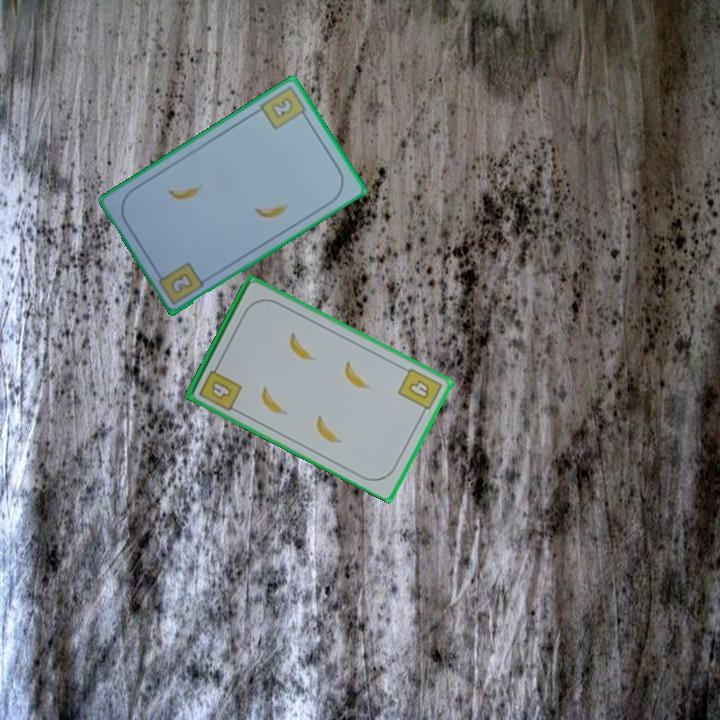2b: (256, 83, 311, 132), (167, 269, 196, 296)
4b: (394, 364, 445, 418), (195, 359, 245, 414)
